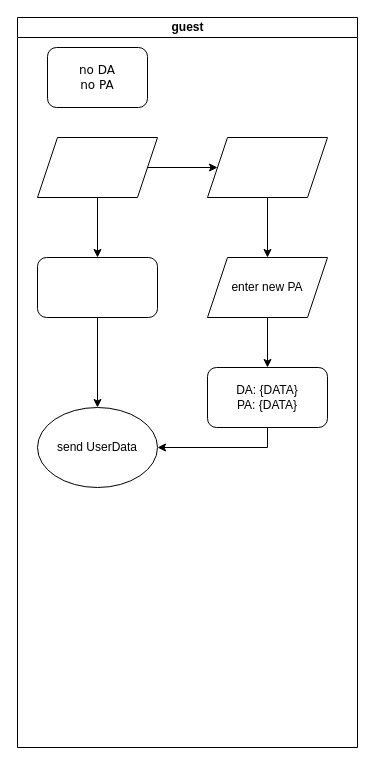
This 375x765 diagram has some shape labels left out. The centre of each missing label's shape, as x and y in pixels:
"check PA checkbox" belongs at pixel 267 167.
"DA: {DATA} PA: ???" belongs at pixel 97 287.
"enter new DA" belongs at pixel 97 167.
